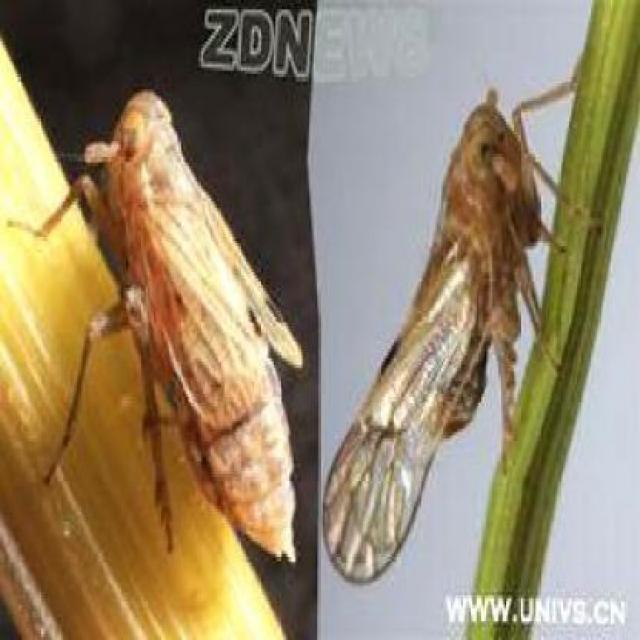brown-planthopper: (324, 86, 562, 582), (74, 85, 297, 568)
